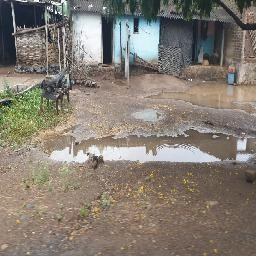water accumulation: (39, 128, 256, 164), (140, 80, 256, 115)
